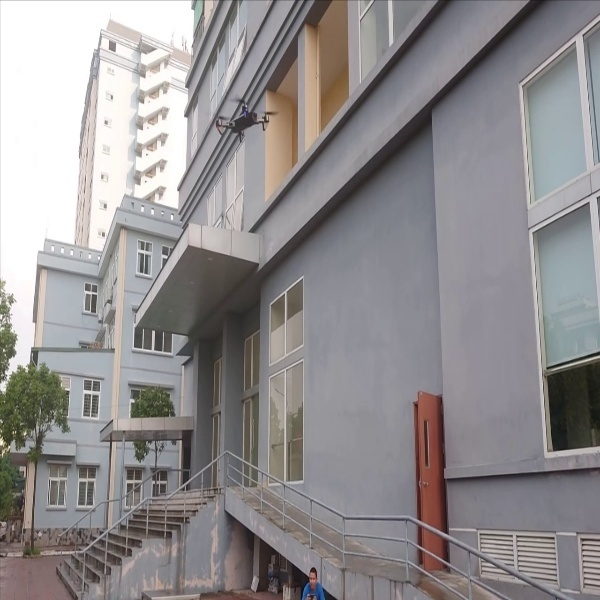drone: (209, 95, 278, 155)
